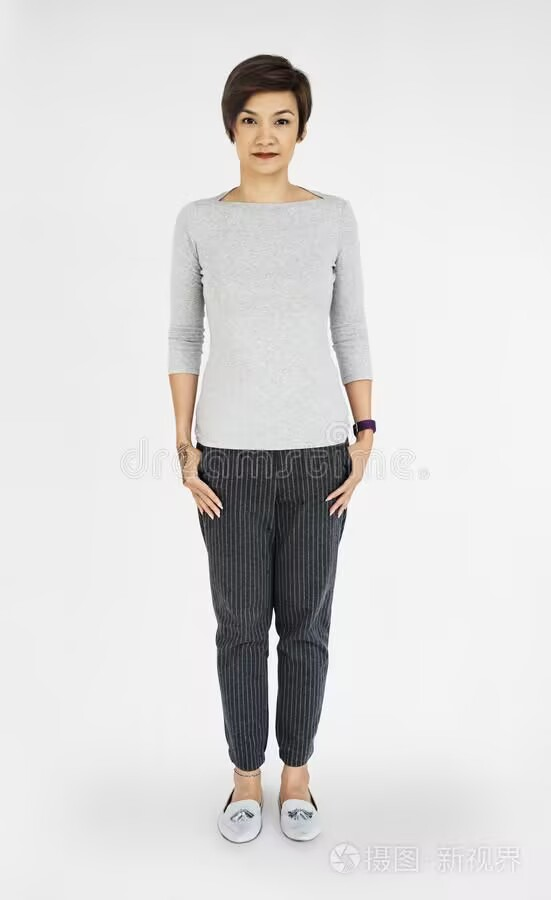up: (160, 40, 394, 855)
